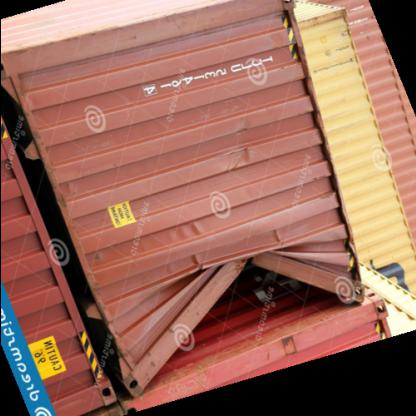Damage: (106, 218, 354, 390), (218, 91, 264, 178)
